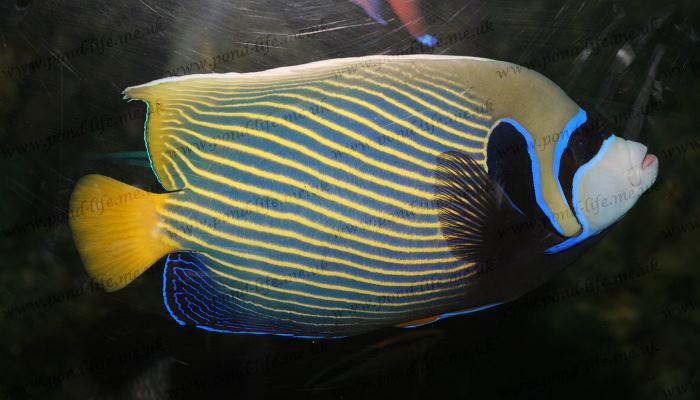Pomacanthus_imperator: (53, 35, 666, 356)
